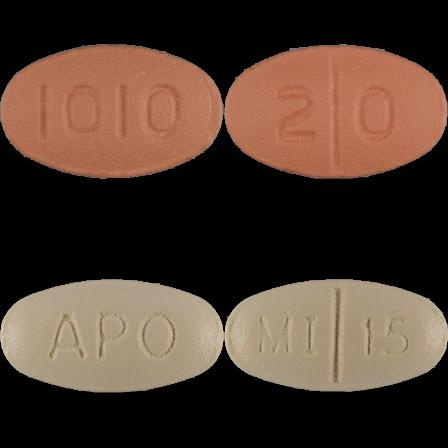63187-203: (0, 0, 224, 224)
